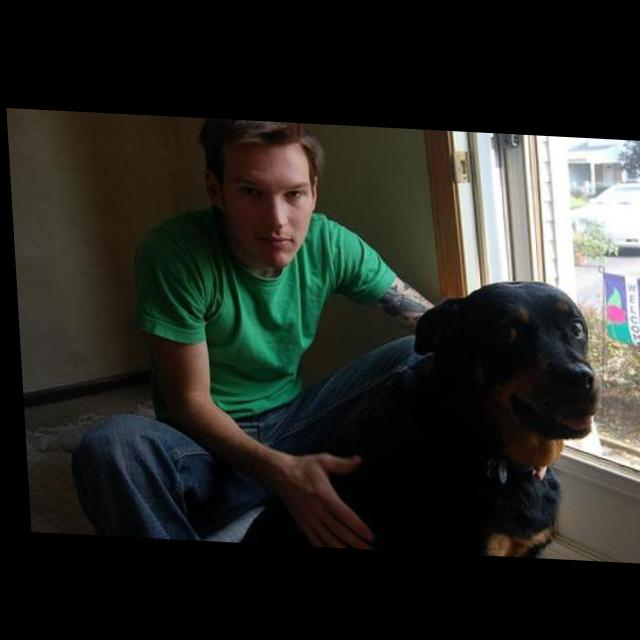face: (219, 138, 315, 267)
person: (50, 111, 448, 550)
rottweiler: (217, 263, 605, 557)
